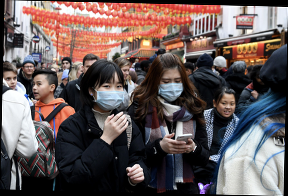with_mask: (96, 79, 126, 111), (159, 75, 184, 103)
without_mask: (32, 78, 50, 101), (217, 98, 237, 118), (3, 74, 19, 89), (24, 62, 36, 76), (121, 67, 131, 80), (61, 61, 71, 70)
